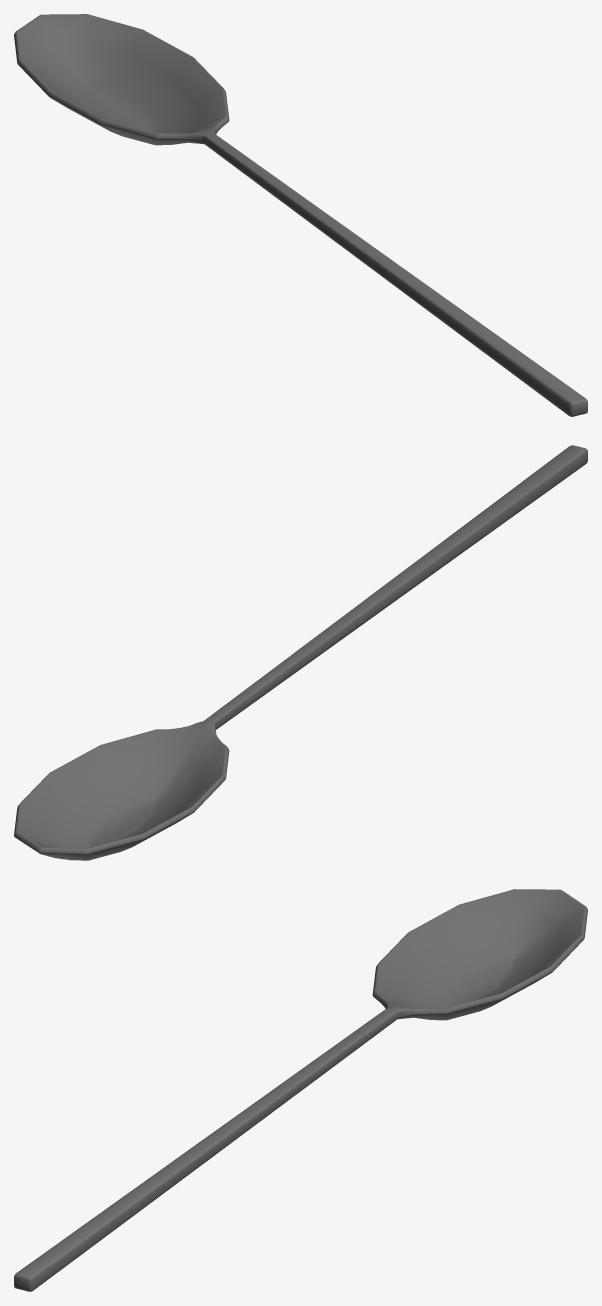
File: Metal Spoon.fbx
The picture shows the model from 3 angles, top to bottom: view 1: azimuth 30°, elevation 25°; view 2: azimuth 150°, elevation 25°; view 3: azimuth 330°, elevation 25°; orthographic projection.
Visible parts, largest first — view 1: Metal Spoon; view 2: Metal Spoon; view 3: Metal Spoon.
Part boxes in pixels (x1,y1,x2,y2): Metal Spoon: (14, 14, 587, 416); Metal Spoon: (14, 445, 587, 860); Metal Spoon: (14, 889, 587, 1291).
Bounding box in the file's own units: 6.99 × 2.27 × 44.74.
